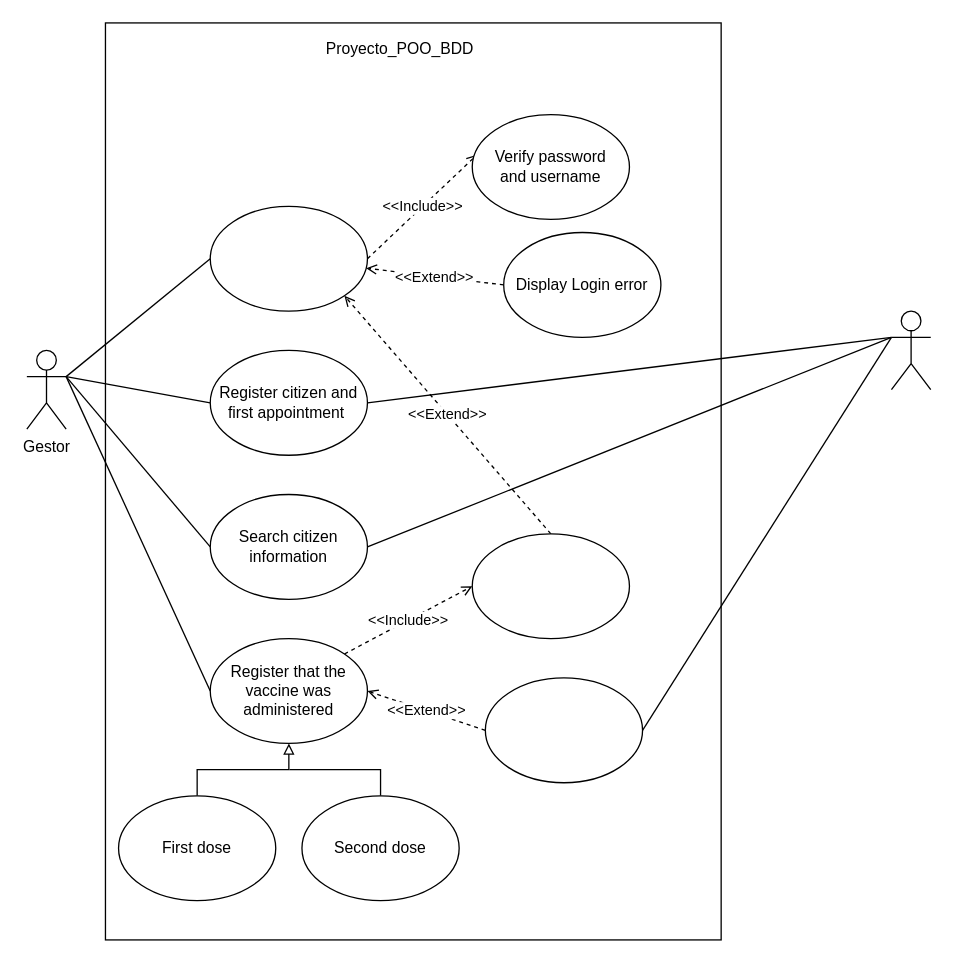
The diagram is 967 pixels wide and 963 high, and some of its shapes have lost their labels. Each missing label, with the centre of its shape:
"Database ProCitas" goes at (910,350).
"Login" goes at (288,258).
"Register appointment for second vaccine" goes at (563,730).
"verify that the citizen is registered" goes at (550,586).
